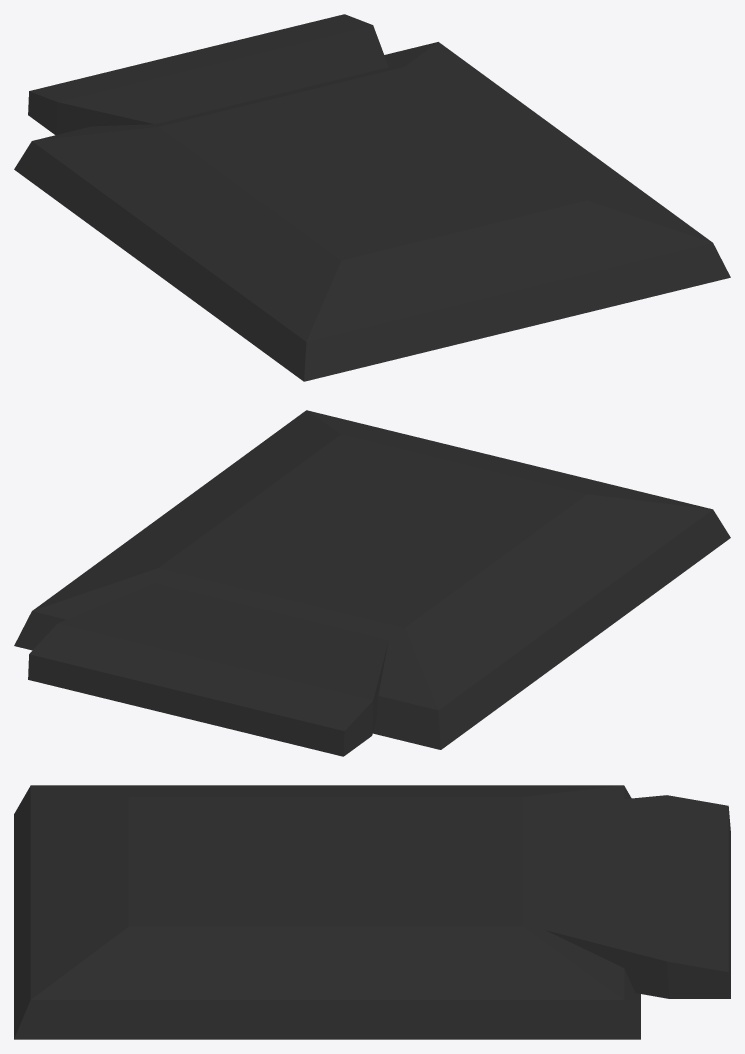
Rendered from bin-wheelie-top.glb.
3 views of the same model, one above another, from view 1: azimuth 30°, elevation 25°; view 2: azimuth 150°, elevation 25°; view 3: azimuth 270°, elevation 25° (orthographic). The views are drawn at different scales.
Parts seen in each view (by area): view 1: bin-wheelie-top; view 2: bin-wheelie-top; view 3: bin-wheelie-top.
Part boxes in pixels (left/top/right/bottom): bin-wheelie-top: left=14, top=14, right=730, bottom=381; bin-wheelie-top: left=14, top=410, right=730, bottom=756; bin-wheelie-top: left=14, top=785, right=730, bottom=1039.
Size of the model in its own units: 0.5487 by 0.0741 by 0.7384.
Materials: 1 (1 with a texture image).
